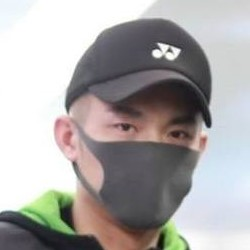mask: (74, 128, 193, 231)
